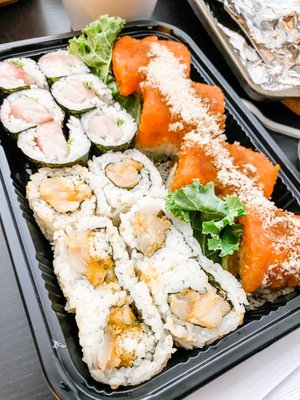sushi: (186, 1, 300, 104)
